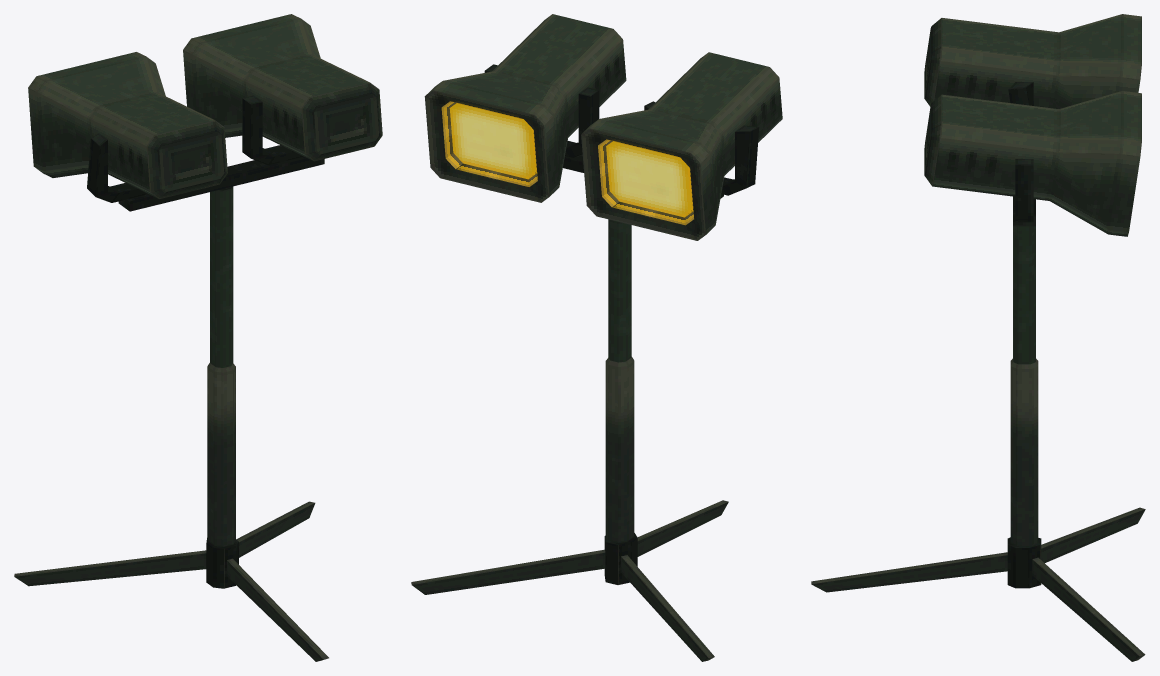
Rendered from SM_Floodlight.gltf.
The picture shows the model from 3 angles, left to right: view 1: azimuth 30°, elevation 25°; view 2: azimuth 150°, elevation 25°; view 3: azimuth 270°, elevation 25°; orthographic projection.
Visible parts, largest first — view 1: SM_Floodlight; view 2: SM_Floodlight; view 3: SM_Floodlight.
Boxes of the visible parts, bbox=[...] form: SM_Floodlight: bbox=[14, 14, 382, 661]; SM_Floodlight: bbox=[411, 14, 782, 661]; SM_Floodlight: bbox=[811, 14, 1145, 661].
Size of the model in its own units: 1.75 by 2.84 by 1.66.
